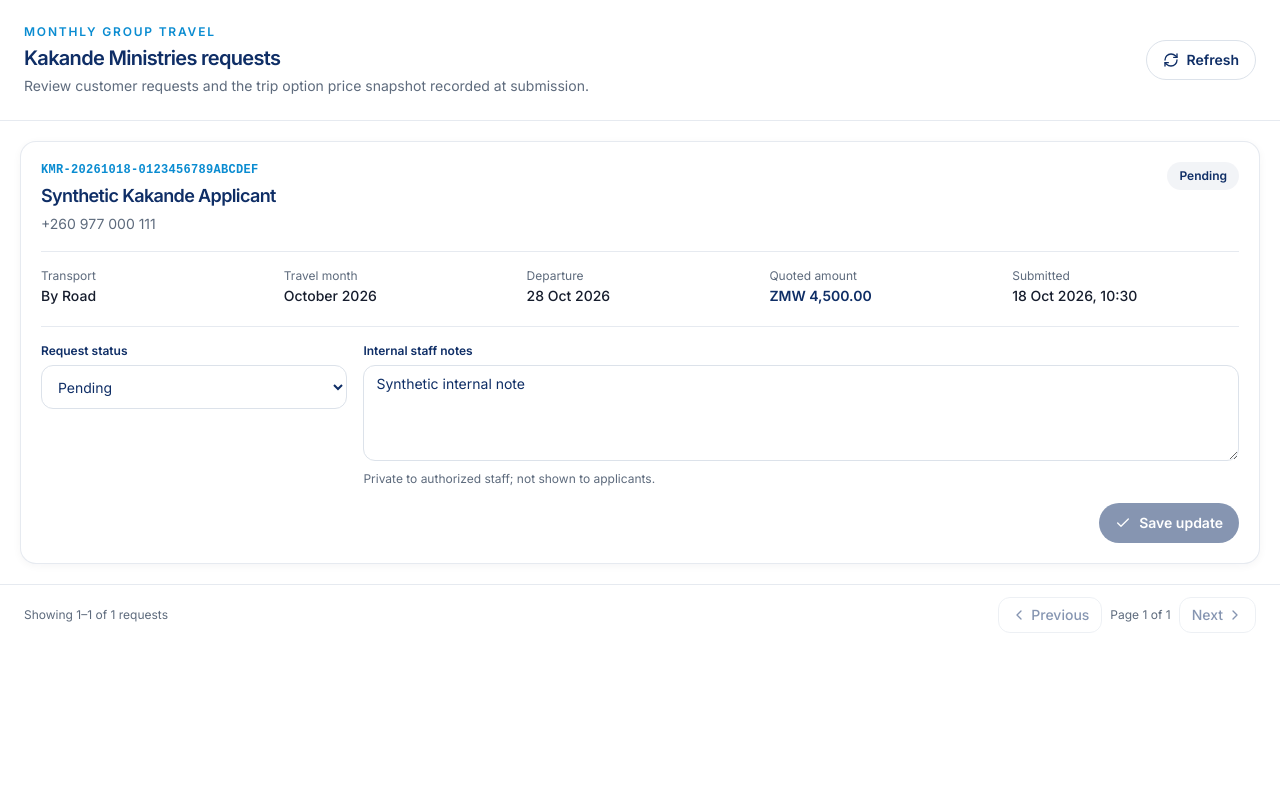
Scenario: admin Kakande request list › rejects an agent attempt to submit an administrator-only status
Expected: the text "KMR-20261018-0123456789ABCDEF" is shown, [41,162,276,178]
Select "approved" in the dropdown named "Request status for KMR-20261018-0123456789ABCDEF" at (194, 387), box [41,365,347,409]
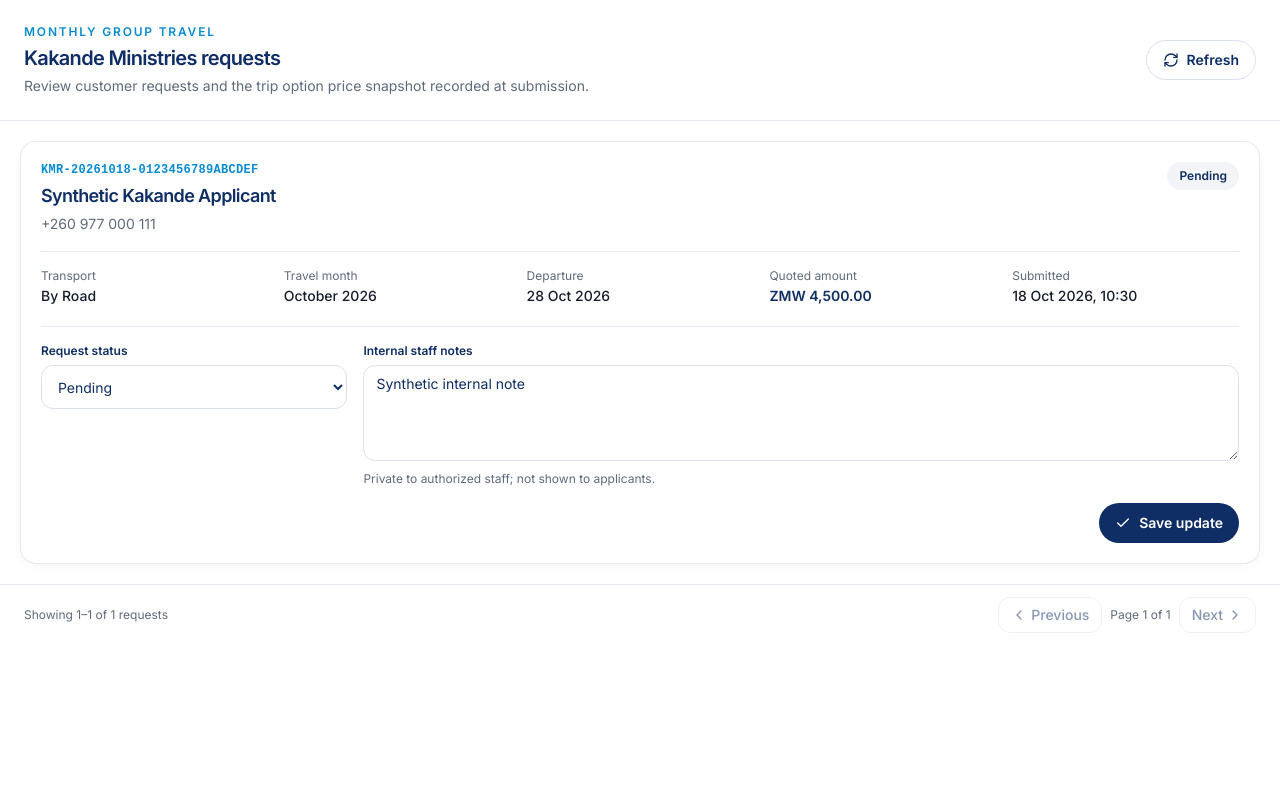
Click the button "Save update" at (1169, 523), box [1099,503,1239,543]
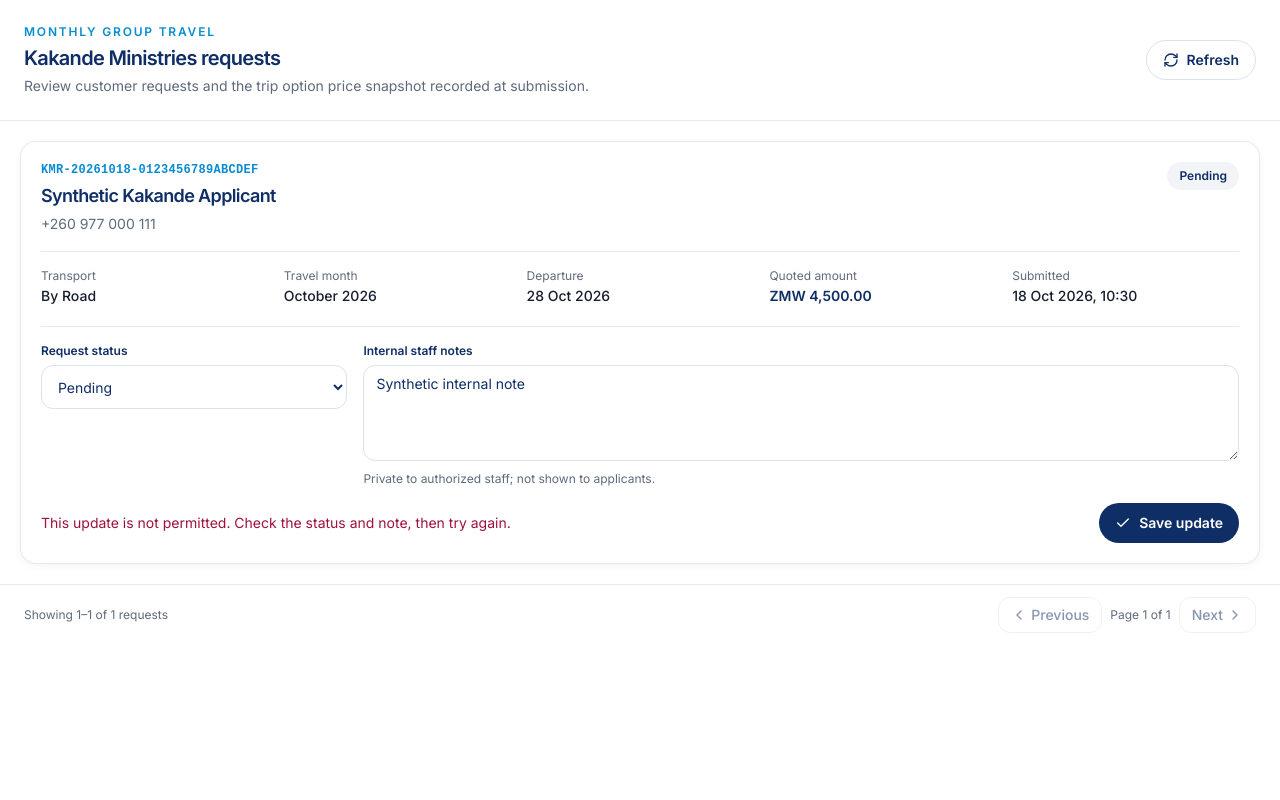
Result: the message shows "This update is not permitted" at [41,514,511,531]
